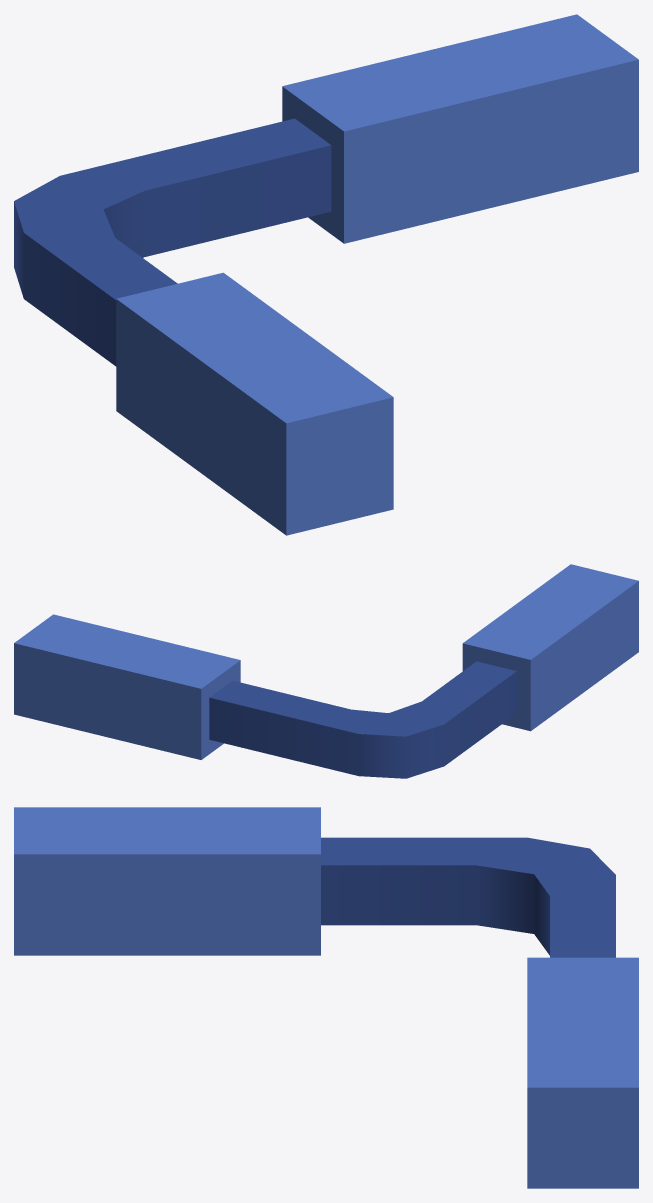
Rendered from Cable_D_2_1.fbx.
3 views of the same model, one above another, from view 1: azimuth 30°, elevation 25°; view 2: azimuth 150°, elevation 25°; view 3: azimuth 270°, elevation 25° (orthographic). The views are drawn at different scales.
Visible parts, largest first — view 1: Cable_D_2_1; view 2: Cable_D_2_1; view 3: Cable_D_2_1.
Boxes of the visible parts, x1,y1,x2,y2 form: Cable_D_2_1: (14, 14, 638, 535); Cable_D_2_1: (14, 564, 638, 778); Cable_D_2_1: (14, 807, 638, 1188).
Bounding box in the file's own units: 58.35 × 9.83 × 54.97.
